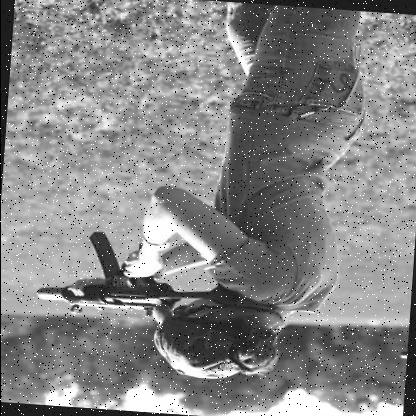rifle: (30, 221, 241, 329)
